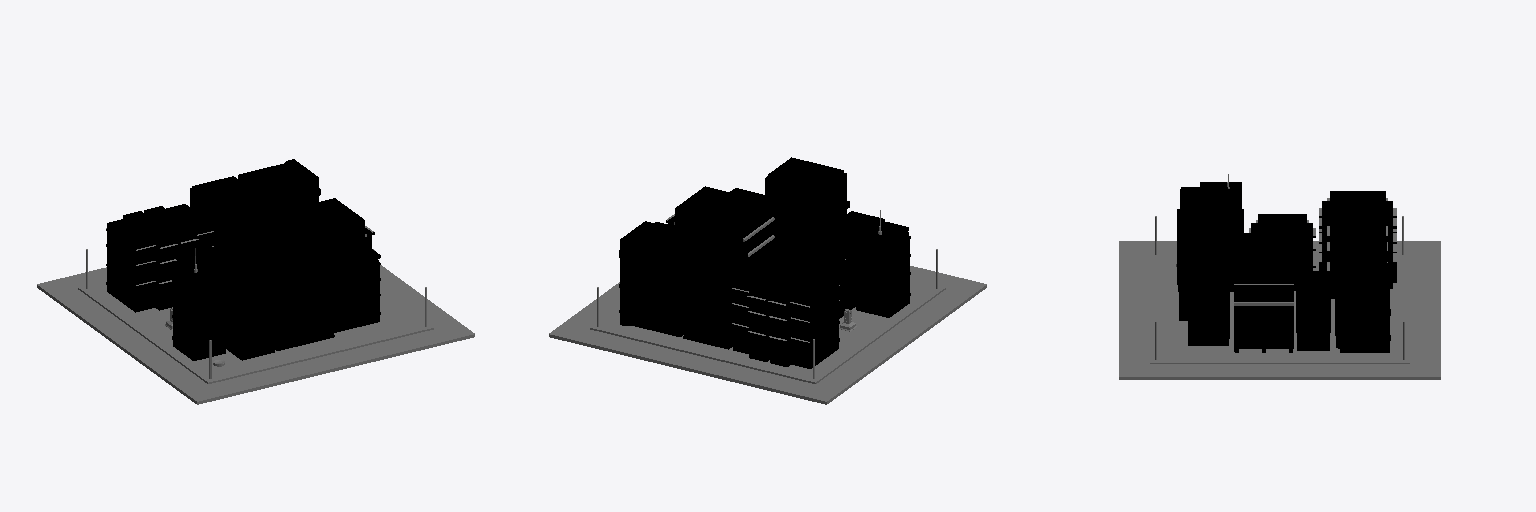
Rendered from city_block.obj.
The picture shows the model from 3 angles: view 1: azimuth 30°, elevation 25°; view 2: azimuth 150°, elevation 25°; view 3: azimuth 270°, elevation 25°; orthographic projection.
Visible parts, largest first — view 1: Bunch_of_shit city_block_base polySurface1, Building_D Bunch_of_shit polySurface1, Bunch_of_shit city_block_base1 polySurface1, Building_E2 Bunch_of_shit polySurface1, Building_C2 Building_F Bunch_of_shit polySurface1, Building_C1 Bunch_of_shit polySurface1, Building_D2 Bunch_of_shit polySurface1, Building_C Bunch_of_shit polySurface1, Building_B Bunch_of_shit polySurface1, Building_A Bunch_of_shit pCube2 polySurface1, Building_E1 Bunch_of_shit polySurface1, Building_E Bunch_of_shit polySurface1; view 2: Bunch_of_shit city_block_base polySurface1, Building_B Bunch_of_shit polySurface1, Building_D Bunch_of_shit polySurface1, Bunch_of_shit city_block_base1 polySurface1, Building_E2 Bunch_of_shit polySurface1, Building_D2 Bunch_of_shit polySurface1, Building_A Bunch_of_shit pCube2 polySurface1, Building_C2 Building_F Bunch_of_shit polySurface1, Building_E1 Bunch_of_shit polySurface1, Building_C1 Bunch_of_shit polySurface1, Building_E Bunch_of_shit polySurface1; view 3: Bunch_of_shit city_block_base polySurface1, Bunch_of_shit city_block_base1 polySurface1, Building_A Bunch_of_shit pCube2 polySurface1, Building_B Bunch_of_shit polySurface1, Building_D Bunch_of_shit polySurface1, Building_C Bunch_of_shit polySurface1, Building_D1 Bunch_of_shit polySurface1, Building_E1 Bunch_of_shit polySurface1, Building_E Bunch_of_shit polySurface1, Building_E2 Bunch_of_shit polySurface1, Building_D2 Bunch_of_shit polySurface1, Building_C1 Bunch_of_shit polySurface1.
Part boxes in pixels (bbox=[...]): Bunch_of_shit city_block_base polySurface1: bbox=[37, 265, 474, 404]; Building_D Bunch_of_shit polySurface1: bbox=[250, 213, 336, 350]; Bunch_of_shit city_block_base1 polySurface1: bbox=[78, 280, 433, 383]; Building_E2 Bunch_of_shit polySurface1: bbox=[106, 211, 177, 312]; Building_C2 Building_F Bunch_of_shit polySurface1: bbox=[172, 263, 227, 360]; Building_C1 Bunch_of_shit polySurface1: bbox=[215, 262, 275, 360]; Building_D2 Bunch_of_shit polySurface1: bbox=[190, 176, 256, 268]; Building_C Bunch_of_shit polySurface1: bbox=[334, 240, 380, 332]; Building_B Bunch_of_shit polySurface1: bbox=[238, 159, 320, 227]; Building_A Bunch_of_shit pCube2 polySurface1: bbox=[268, 198, 374, 250]; Building_E1 Bunch_of_shit polySurface1: bbox=[144, 204, 214, 252]; Building_E Bunch_of_shit polySurface1: bbox=[176, 243, 233, 268]; Bunch_of_shit city_block_base polySurface1: bbox=[549, 266, 986, 404]; Building_B Bunch_of_shit polySurface1: bbox=[619, 221, 704, 336]; Building_D Bunch_of_shit polySurface1: bbox=[765, 157, 849, 264]; Bunch_of_shit city_block_base1 polySurface1: bbox=[590, 279, 945, 383]; Building_E2 Bunch_of_shit polySurface1: bbox=[768, 268, 839, 368]; Building_D2 Bunch_of_shit polySurface1: bbox=[681, 239, 747, 349]; Building_A Bunch_of_shit pCube2 polySurface1: bbox=[666, 186, 774, 269]; Building_C2 Building_F Bunch_of_shit polySurface1: bbox=[856, 219, 910, 317]; Building_E1 Bunch_of_shit polySurface1: bbox=[732, 261, 801, 361]; Building_C1 Bunch_of_shit polySurface1: bbox=[818, 211, 884, 309]; Building_E Bunch_of_shit polySurface1: bbox=[790, 244, 845, 318]; Bunch_of_shit city_block_base polySurface1: bbox=[1119, 241, 1440, 379]; Bunch_of_shit city_block_base1 polySurface1: bbox=[1150, 252, 1409, 363]; Building_A Bunch_of_shit pCube2 polySurface1: bbox=[1234, 233, 1293, 348]; Building_B Bunch_of_shit polySurface1: bbox=[1335, 239, 1390, 352]; Building_D Bunch_of_shit polySurface1: bbox=[1178, 187, 1230, 320]; Building_C Bunch_of_shit polySurface1: bbox=[1188, 256, 1229, 345]; Building_D1 Bunch_of_shit polySurface1: bbox=[1296, 271, 1330, 350]; Building_E1 Bunch_of_shit polySurface1: bbox=[1319, 211, 1396, 298]; Building_E Bunch_of_shit polySurface1: bbox=[1249, 214, 1315, 290]; Building_E2 Bunch_of_shit polySurface1: bbox=[1319, 191, 1396, 270]; Building_D2 Bunch_of_shit polySurface1: bbox=[1346, 216, 1386, 249]; Building_C1 Bunch_of_shit polySurface1: bbox=[1177, 209, 1243, 291].
Bounding box in the file's own units: 26.69 × 10.31 × 26.69.